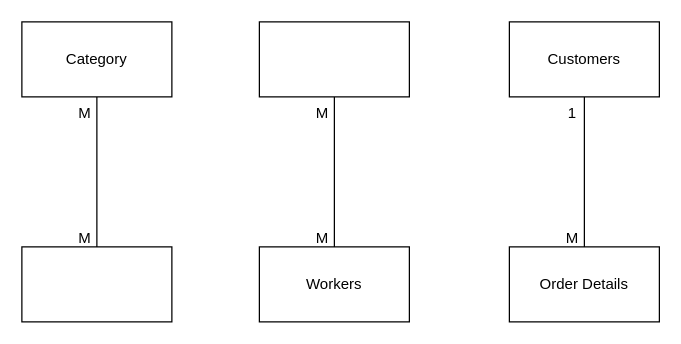
This 681x344 diagram has some shape labels left out. Each missing label, with the centre of its shape:
Departments: the point at 333,59
Products: the point at 96,284
